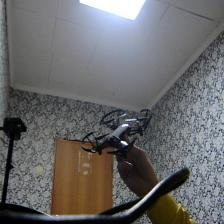drone: (81, 107, 153, 162)
